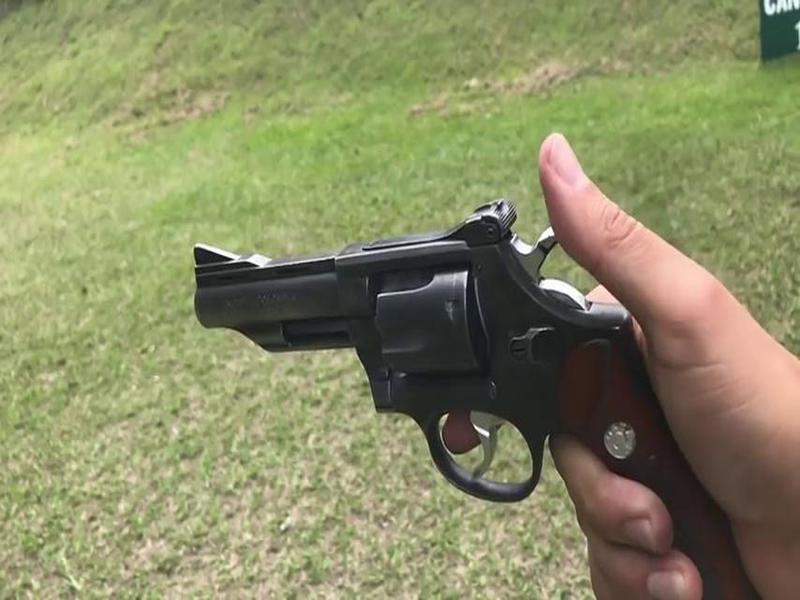Revolver: (183, 185, 683, 563)
